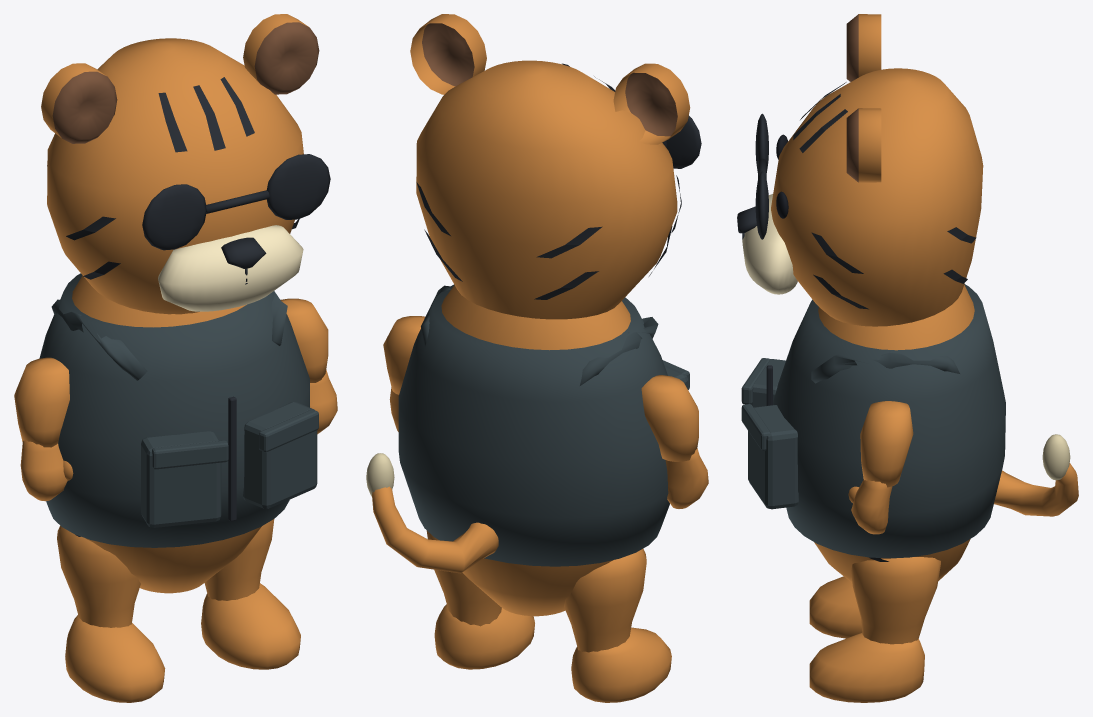
The model's file is tiger.glb.
3 views of the same model, side by side, from view 1: azimuth 30°, elevation 25°; view 2: azimuth 150°, elevation 25°; view 3: azimuth 270°, elevation 25° (orthographic). The views are drawn at different scales.
Parts seen in each view (by area): view 1: Head_mesh, Gear_Vest_mesh, LeftFoot_mesh, RightFoot_mesh, Deform_mesh, Gear_Glasses_mesh, common_tiger_leftArm_mesh, common_tiger_leftPaw_mesh, common_tiger_rightArm_mesh, common_tiger_rightPaw_mesh; view 2: Head_mesh, Gear_Vest_mesh, LeftFoot_mesh, Deform_mesh, RightFoot_mesh, common_tiger_tail_mesh, common_tiger_leftArm_mesh, common_tiger_leftPaw_mesh, common_tiger_rightArm_mesh, Gear_Glasses_mesh; view 3: Head_mesh, Gear_Vest_mesh, RightFoot_mesh, Deform_mesh, common_tiger_tail_mesh, common_tiger_rightArm_mesh, LeftFoot_mesh, common_tiger_rightPaw_mesh, Gear_Glasses_mesh.
Part boxes in pixels (box(x1,y1,x2,y2)): Head_mesh: box(41, 14, 319, 314); Gear_Vest_mesh: box(39, 273, 318, 547); LeftFoot_mesh: box(57, 525, 165, 702); RightFoot_mesh: box(201, 519, 300, 669); Deform_mesh: box(72, 275, 261, 593); Gear_Glasses_mesh: box(142, 154, 330, 250); common_tiger_leftArm_mesh: box(14, 357, 69, 447); common_tiger_leftPaw_mesh: box(20, 440, 73, 501); common_tiger_rightArm_mesh: box(281, 298, 328, 382); common_tiger_rightPaw_mesh: box(310, 370, 337, 434); Head_mesh: box(410, 14, 690, 319); Gear_Vest_mesh: box(398, 284, 689, 566); LeftFoot_mesh: box(564, 549, 671, 702); Deform_mesh: box(441, 285, 630, 616); RightFoot_mesh: box(426, 530, 534, 669); common_tiger_tail_mesh: box(366, 453, 498, 573); common_tiger_leftArm_mesh: box(641, 375, 698, 461); common_tiger_leftPaw_mesh: box(665, 448, 708, 508); common_tiger_rightArm_mesh: box(383, 316, 424, 394); Gear_Glasses_mesh: box(666, 115, 701, 168); Head_mesh: box(737, 14, 983, 326); Gear_Vest_mesh: box(741, 284, 1005, 558); RightFoot_mesh: box(809, 557, 940, 702); Deform_mesh: box(814, 285, 974, 582); common_tiger_tail_mesh: box(994, 434, 1078, 516); common_tiger_rightArm_mesh: box(860, 401, 913, 487); LeftFoot_mesh: box(809, 576, 862, 638); common_tiger_rightPaw_mesh: box(848, 479, 892, 534); Gear_Glasses_mesh: box(755, 113, 768, 239).
Bounding box in the file's own units: 1.01 × 1.92 × 1.
